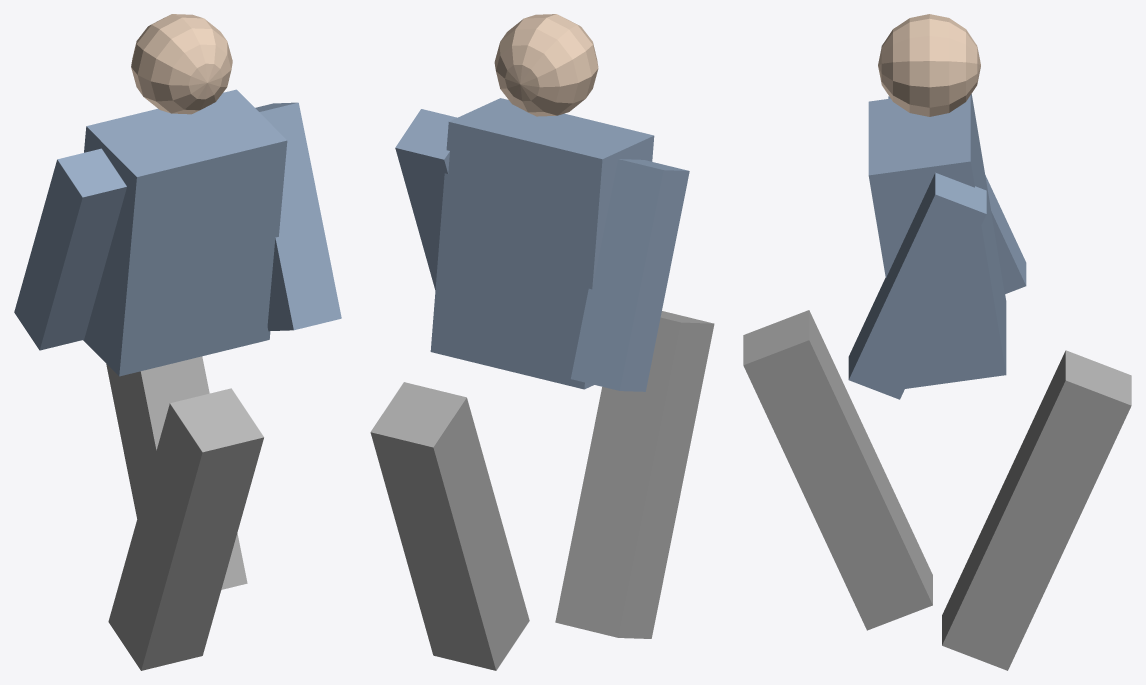
Rendered from start_run.glb.
The picture shows the model from 3 angles, left to right: view 1: azimuth 30°, elevation 25°; view 2: azimuth 150°, elevation 25°; view 3: azimuth 270°, elevation 25°; orthographic projection. The views are drawn at different scales.
Visible parts, largest first — view 1: torso, leg_l, arm_l, arm_r, head, leg_r; view 2: torso, leg_l, leg_r, arm_l, head, arm_r; view 3: leg_l, leg_r, torso, arm_r, head, arm_l.
Part boxes in pixels (x1=…): torso: x1=83, y1=89, x2=287, y2=376; leg_l: x1=108, y1=388, x2=263, y2=670; arm_l: x1=14, y1=148, x2=126, y2=350; arm_r: x1=255, y1=102, x2=341, y2=331; head: x1=131, y1=14, x2=232, y2=114; leg_r: x1=106, y1=356, x2=247, y2=589; torso: x1=430, y1=98, x2=654, y2=389; leg_l: x1=555, y1=311, x2=714, y2=638; leg_r: x1=370, y1=382, x2=529, y2=670; arm_l: x1=571, y1=159, x2=689, y2=391; head: x1=494, y1=14, x2=598, y2=116; arm_r: x1=395, y1=109, x2=456, y2=289; leg_l: x1=743, y1=310, x2=932, y2=630; leg_r: x1=942, y1=350, x2=1131, y2=670; torso: x1=868, y1=94, x2=1006, y2=388; arm_r: x1=848, y1=172, x2=986, y2=399; head: x1=878, y1=14, x2=980, y2=116; arm_l: x1=888, y1=96, x2=1026, y2=293.
Bounding box in the file's own units: 0.7001 × 1.71 × 0.9774.
